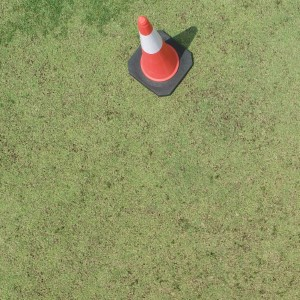traffic cone: (128, 15, 193, 96)
